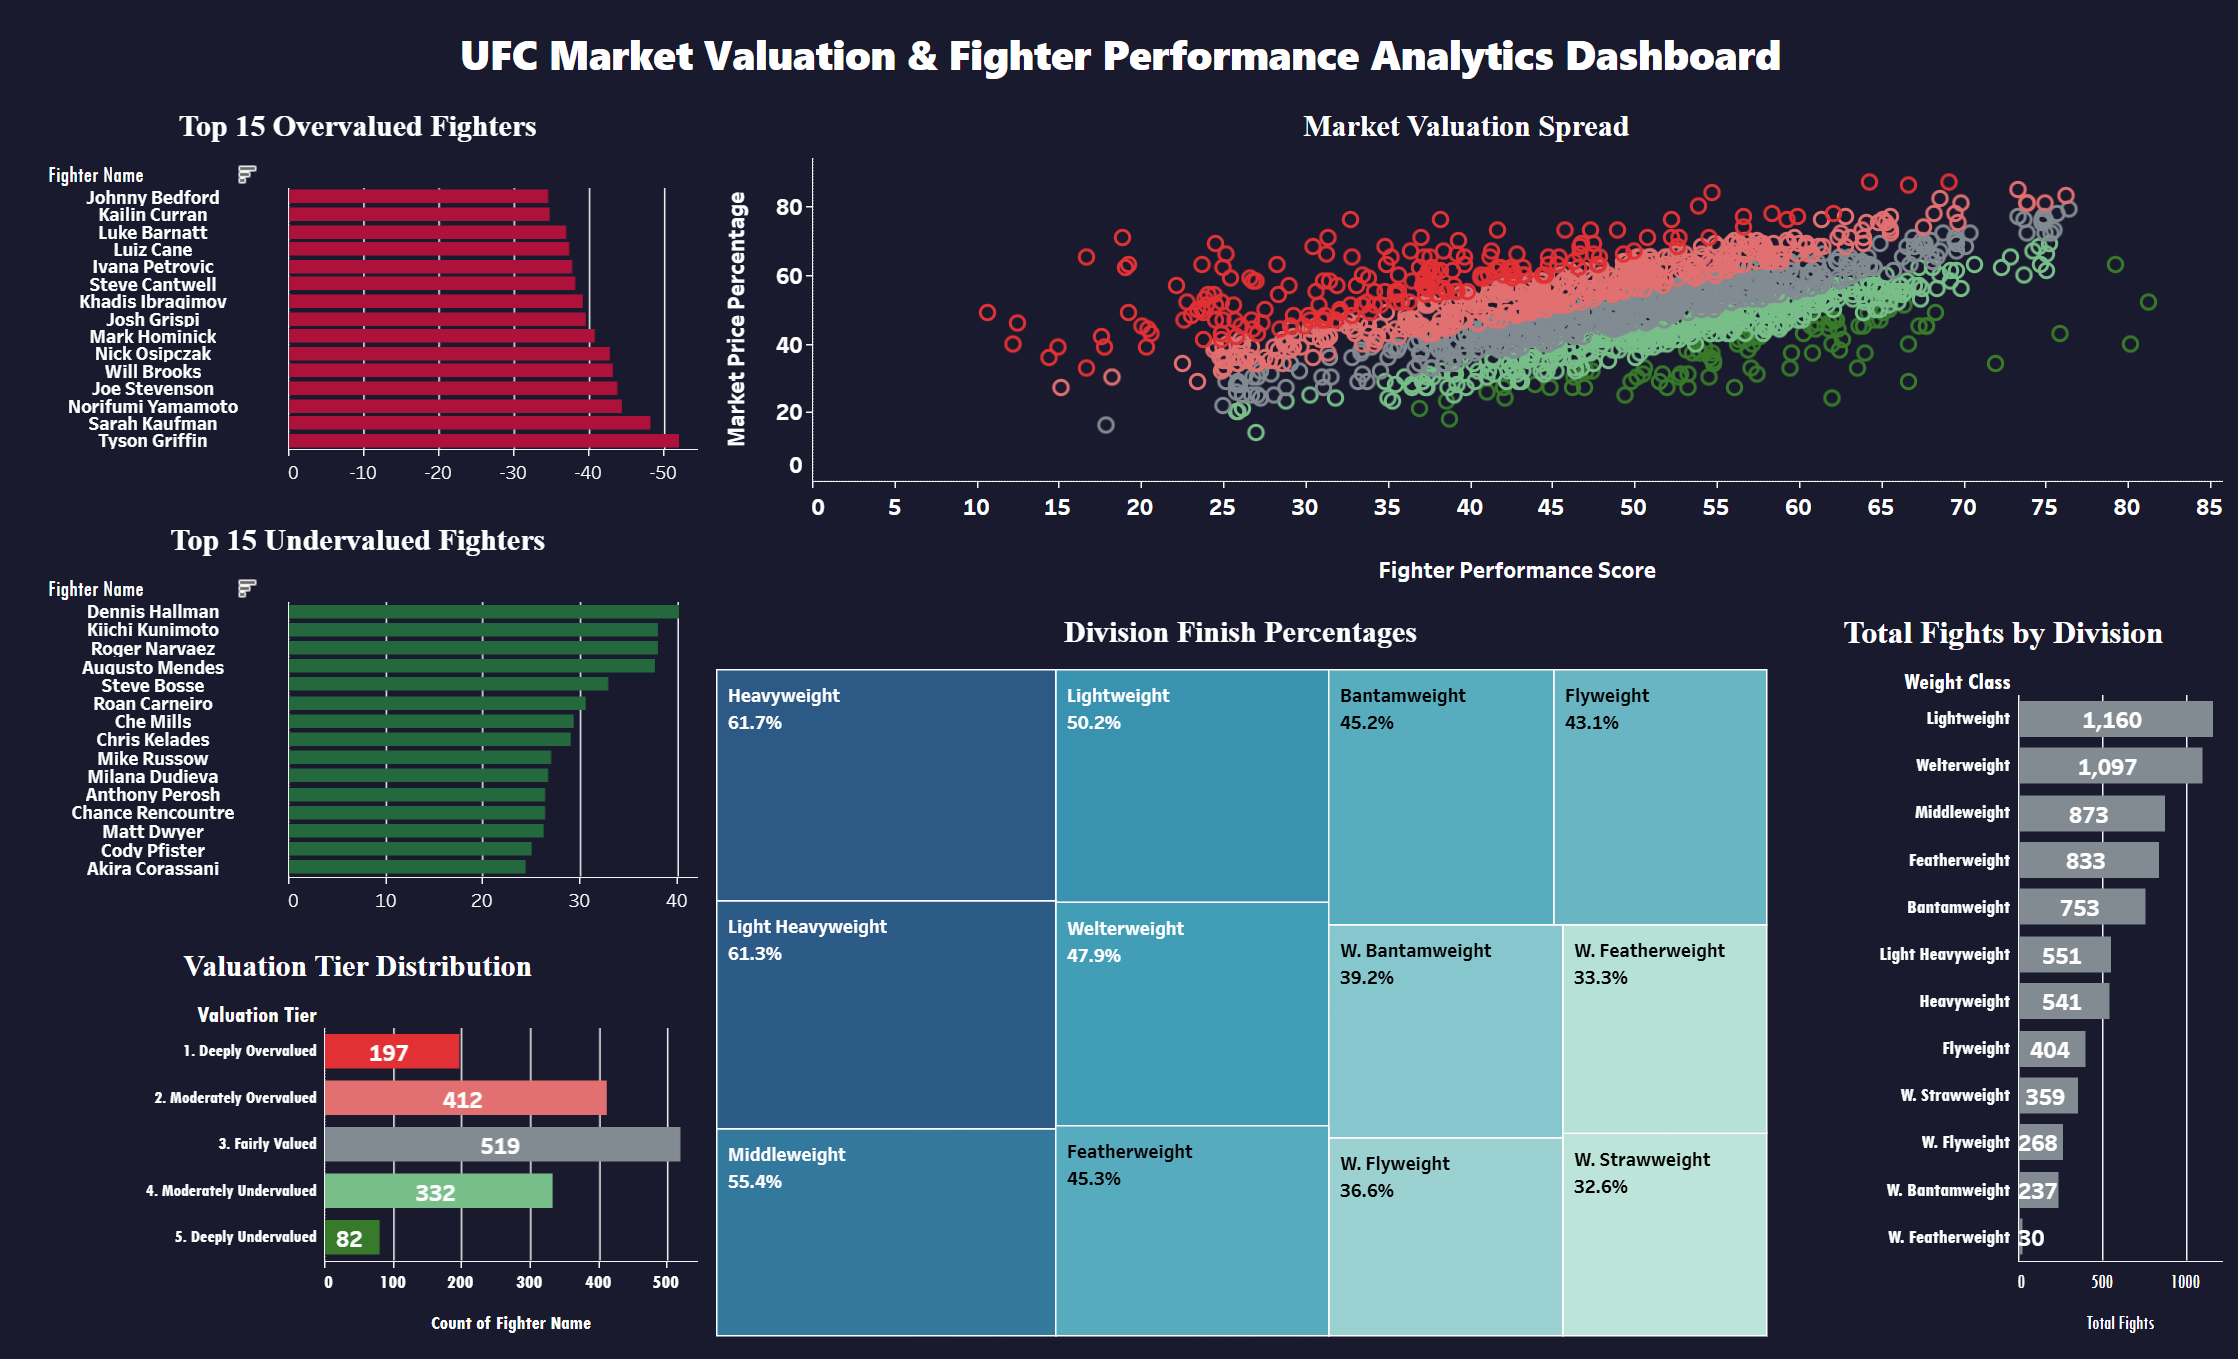

Layout of this report page (visuals, bound fields, positions):
{"tool":"tableau","page":{"name":"Dashboard 1","canvas":[1000,1000],"units":"permille","ordinal":0},"visuals":[{"type":"title","box":[4.2,7.5,991.6,50.4]},{"type":"worksheet","title":"Top 15 Overvalued","mark":"Automatic","rows":["fighter_name"],"cols":["Calculation_1550047093936131"],"box":[4.2,57.8,309.6,308.8]},{"type":"worksheet","title":"Sheet 2","mark":"Automatic","rows":["market_price_percentage"],"cols":["fighter_performance_score"],"box":[313.8,57.8,682,376.9]},{"type":"worksheet","title":"Top 15 Undervalued","mark":"Automatic","rows":["fighter_name"],"cols":["Calculation_1550047093936131"],"box":[4.2,366.6,309.6,317.2]},{"type":"worksheet","title":"Finish Rate","mark":"Automatic","box":[313.8,434.7,479.7,557.9]},{"type":"worksheet","title":"Sheet 1","mark":"Automatic","rows":["weight_class"],"cols":["total_fights"],"box":[793.6,434.7,202.2,557.9]},{"type":"worksheet","title":"Sheet 5","mark":"Automatic","rows":["Calculation_1550047723061252"],"cols":["fighter_name"],"box":[4.2,683.8,309.6,308.8]}]}

Visuals, with their boxes on the dashboard's canvas, which has no fixed pixel size, in thousandths of its width and height (x1, y1, x2, y2). These are canvas units, not pixel positions in the 2238x1359 screenshot, which may show the page scaled, cropped or inside an application window:
title: (x1=4, y1=8, x2=996, y2=58)
"Top 15 Overvalued" worksheet: (x1=4, y1=58, x2=314, y2=367)
"Sheet 2" worksheet: (x1=314, y1=58, x2=996, y2=435)
"Top 15 Undervalued" worksheet: (x1=4, y1=367, x2=314, y2=684)
"Finish Rate" worksheet: (x1=314, y1=435, x2=794, y2=993)
"Sheet 1" worksheet: (x1=794, y1=435, x2=996, y2=993)
"Sheet 5" worksheet: (x1=4, y1=684, x2=314, y2=993)
